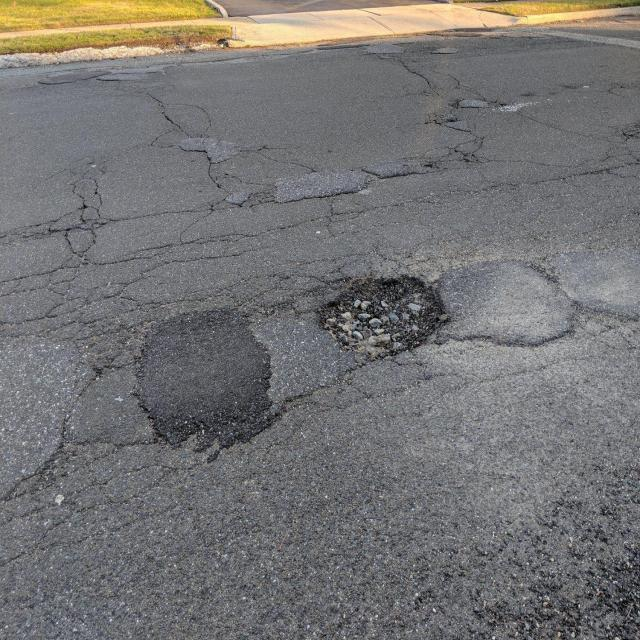Pothole: (326, 280, 455, 364)
